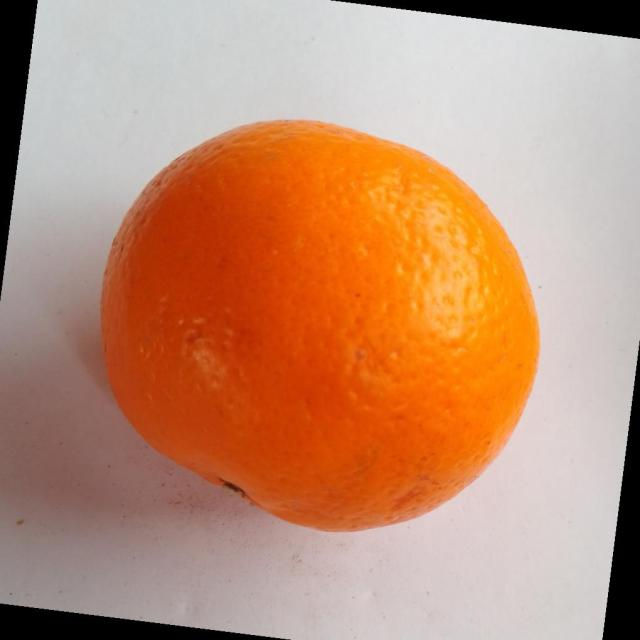fresh orange: (99, 117, 542, 532)
